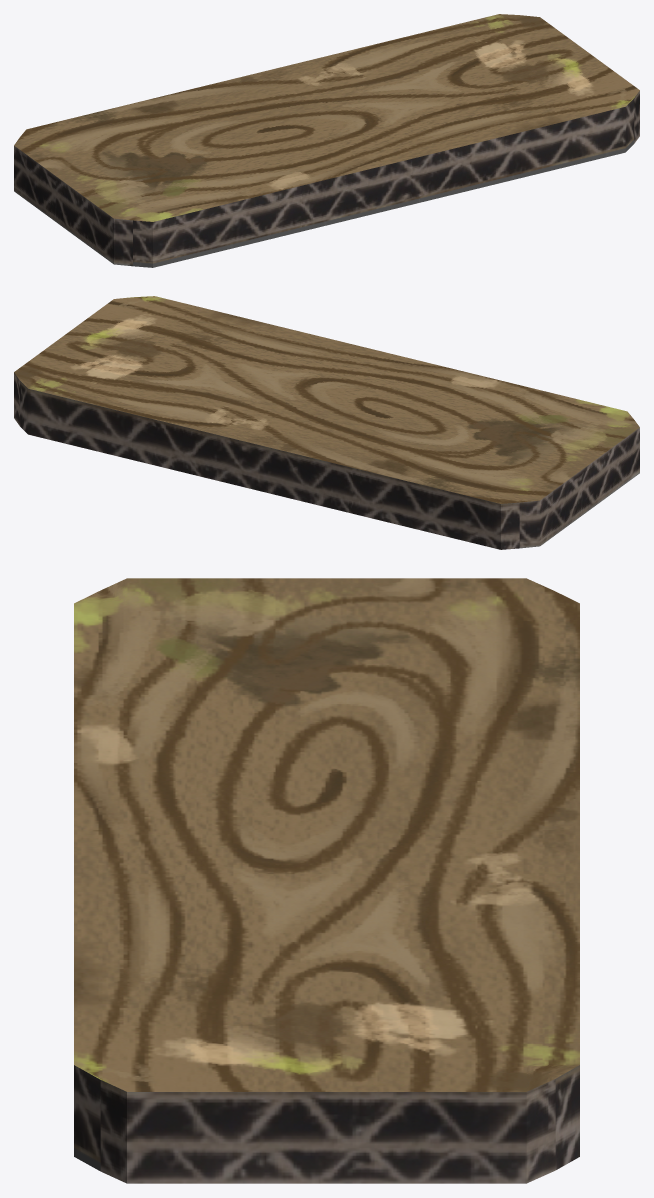
The model's file is bruecke_tile.fbx.
3 views of the same model, one above another, from view 1: azimuth 30°, elevation 25°; view 2: azimuth 150°, elevation 25°; view 3: azimuth 270°, elevation 25° (orthographic). The views are drawn at different scales.
Visible parts, largest first — view 1: Cube; view 2: Cube; view 3: Cube.
Boxes of the visible parts, <box> form: Cube: <box>14,14,639,267</box>; Cube: <box>14,296,639,549</box>; Cube: <box>74,578,579,1183</box>.
Bounding box in the file's own units: 6000 × 500 × 2500.
1 material, 1 textured.
